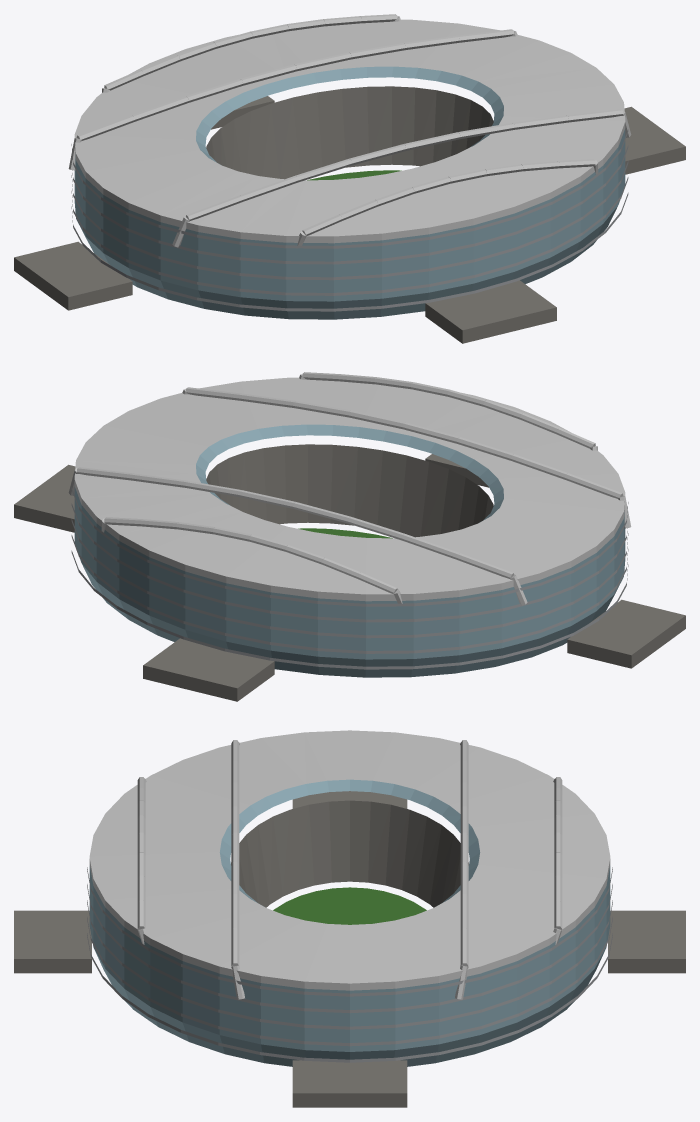
File: emirates_stadium.glb
3 renders of one model, top to bottom at view 1: azimuth 30°, elevation 25°; view 2: azimuth 150°, elevation 25°; view 3: azimuth 270°, elevation 25°, orthographic. The views are drawn at different scales.
Visible parts, largest first — view 1: emirates_stadium; view 2: emirates_stadium; view 3: emirates_stadium.
Boxes of the visible parts, x1,y1,x2,y2 form: emirates_stadium: [14, 14, 685, 343]; emirates_stadium: [14, 372, 685, 701]; emirates_stadium: [14, 730, 685, 1107].
Size of the model in its own units: 288 by 49.3 by 258.
